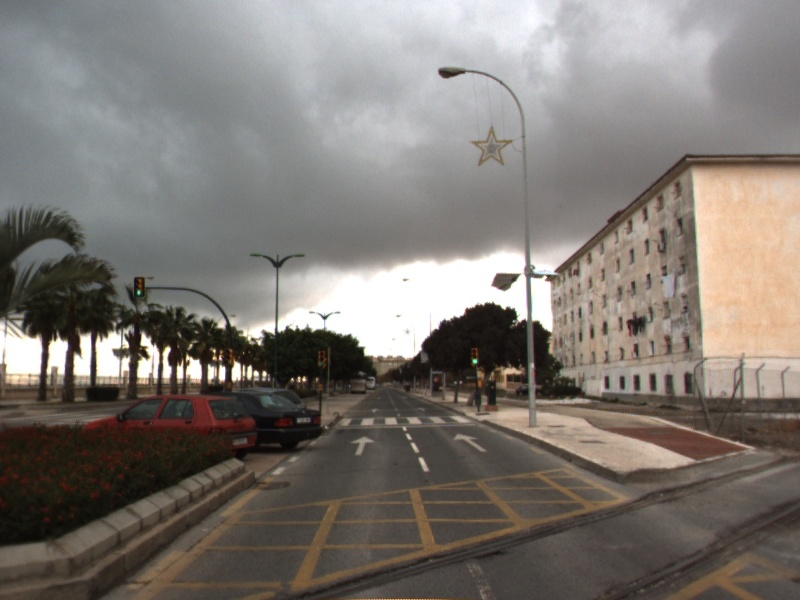STRAIGHT: (451, 431, 490, 454), (348, 433, 377, 457)
